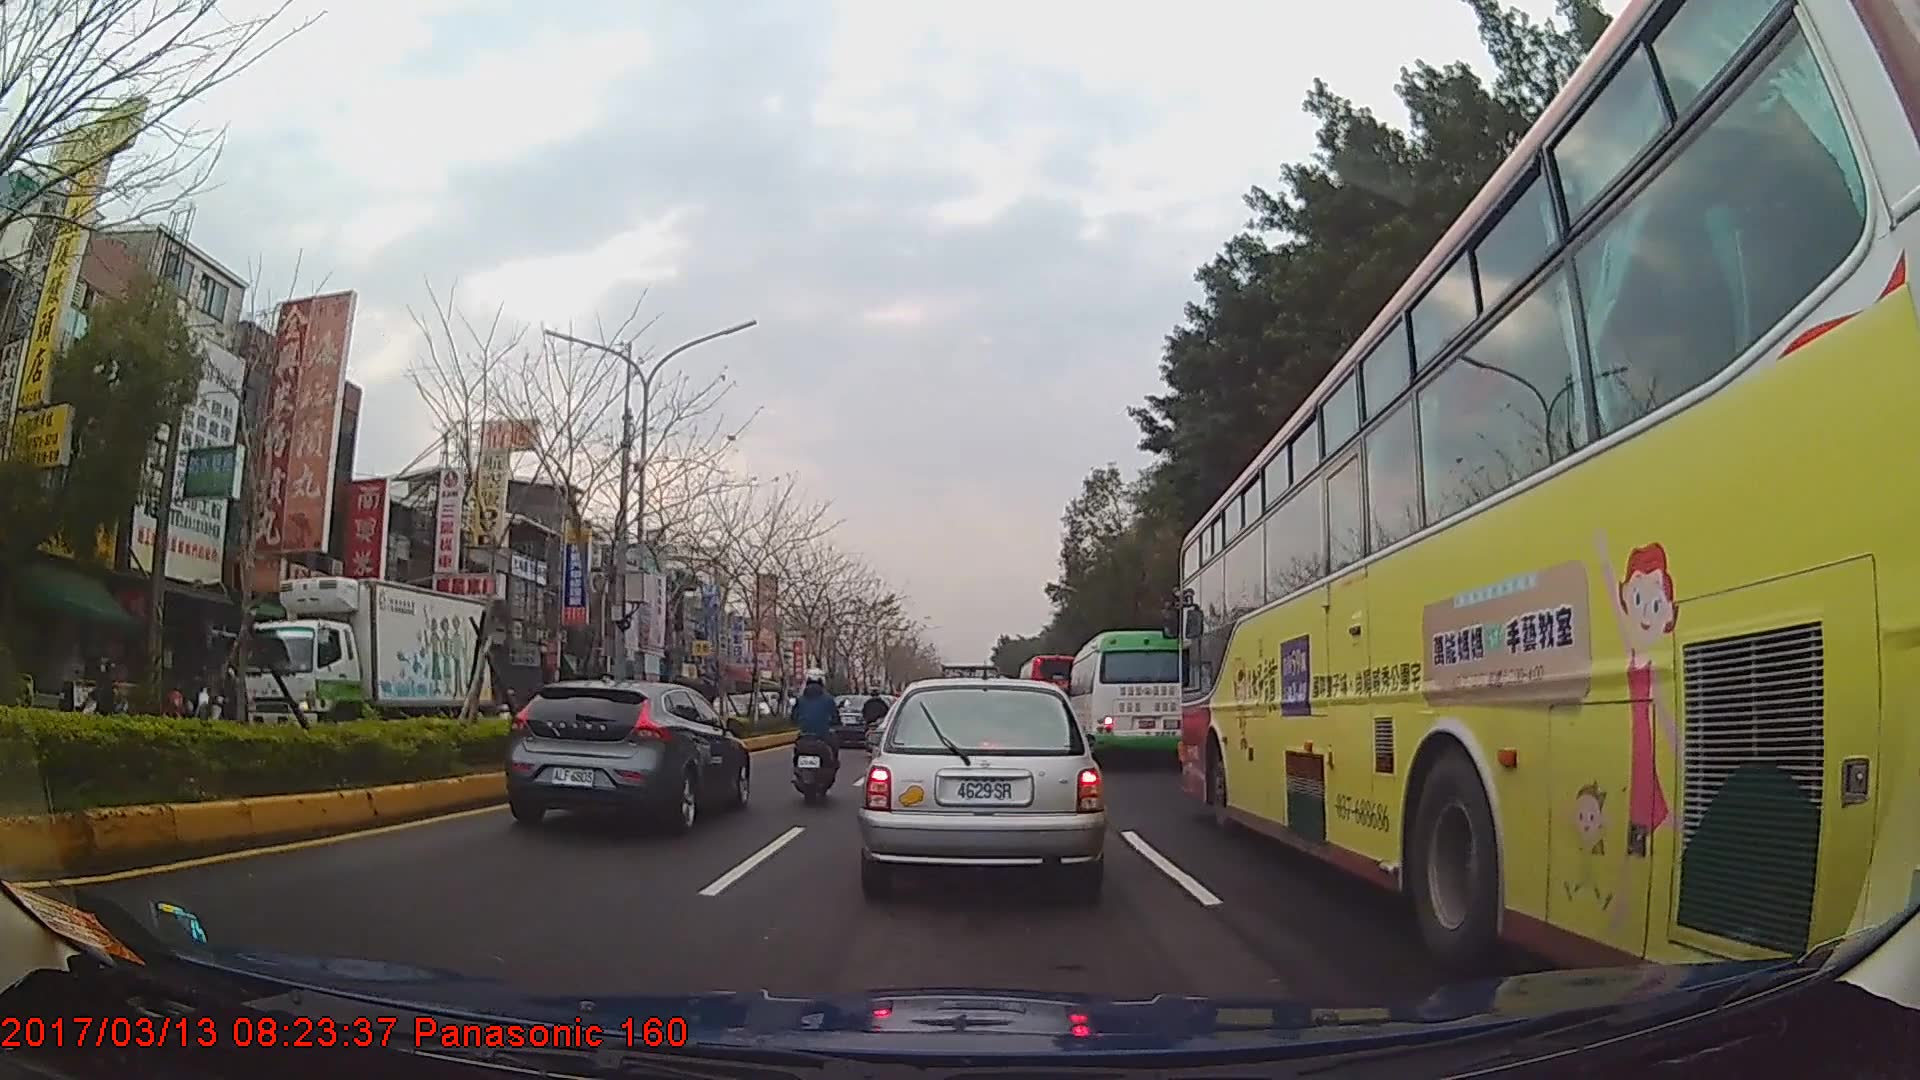rider: (792, 666, 845, 790), (83, 656, 128, 715), (863, 687, 890, 751), (210, 669, 243, 721)
vehicle: (1180, 0, 1920, 1026), (860, 676, 1102, 897), (237, 575, 493, 758), (506, 673, 751, 831), (1068, 625, 1187, 764), (1016, 652, 1083, 723)
